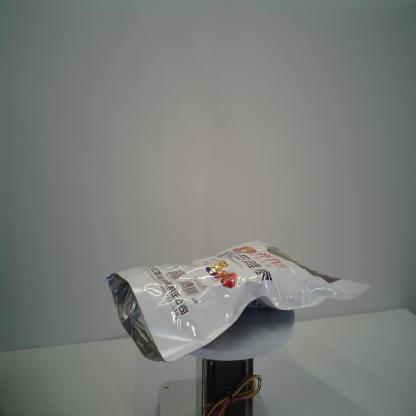Dried Food: (106, 239, 372, 363)
